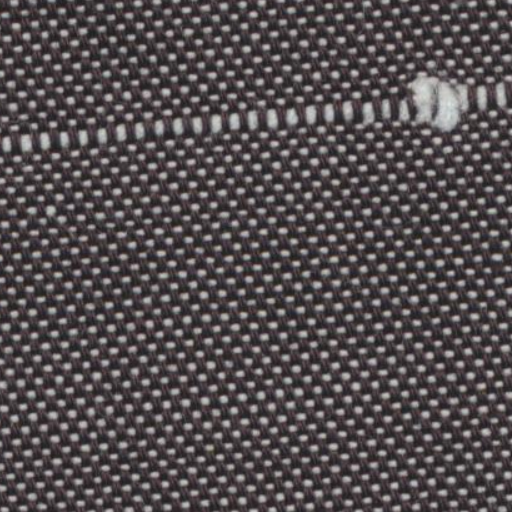DaiSha: (9, 74, 500, 163)
